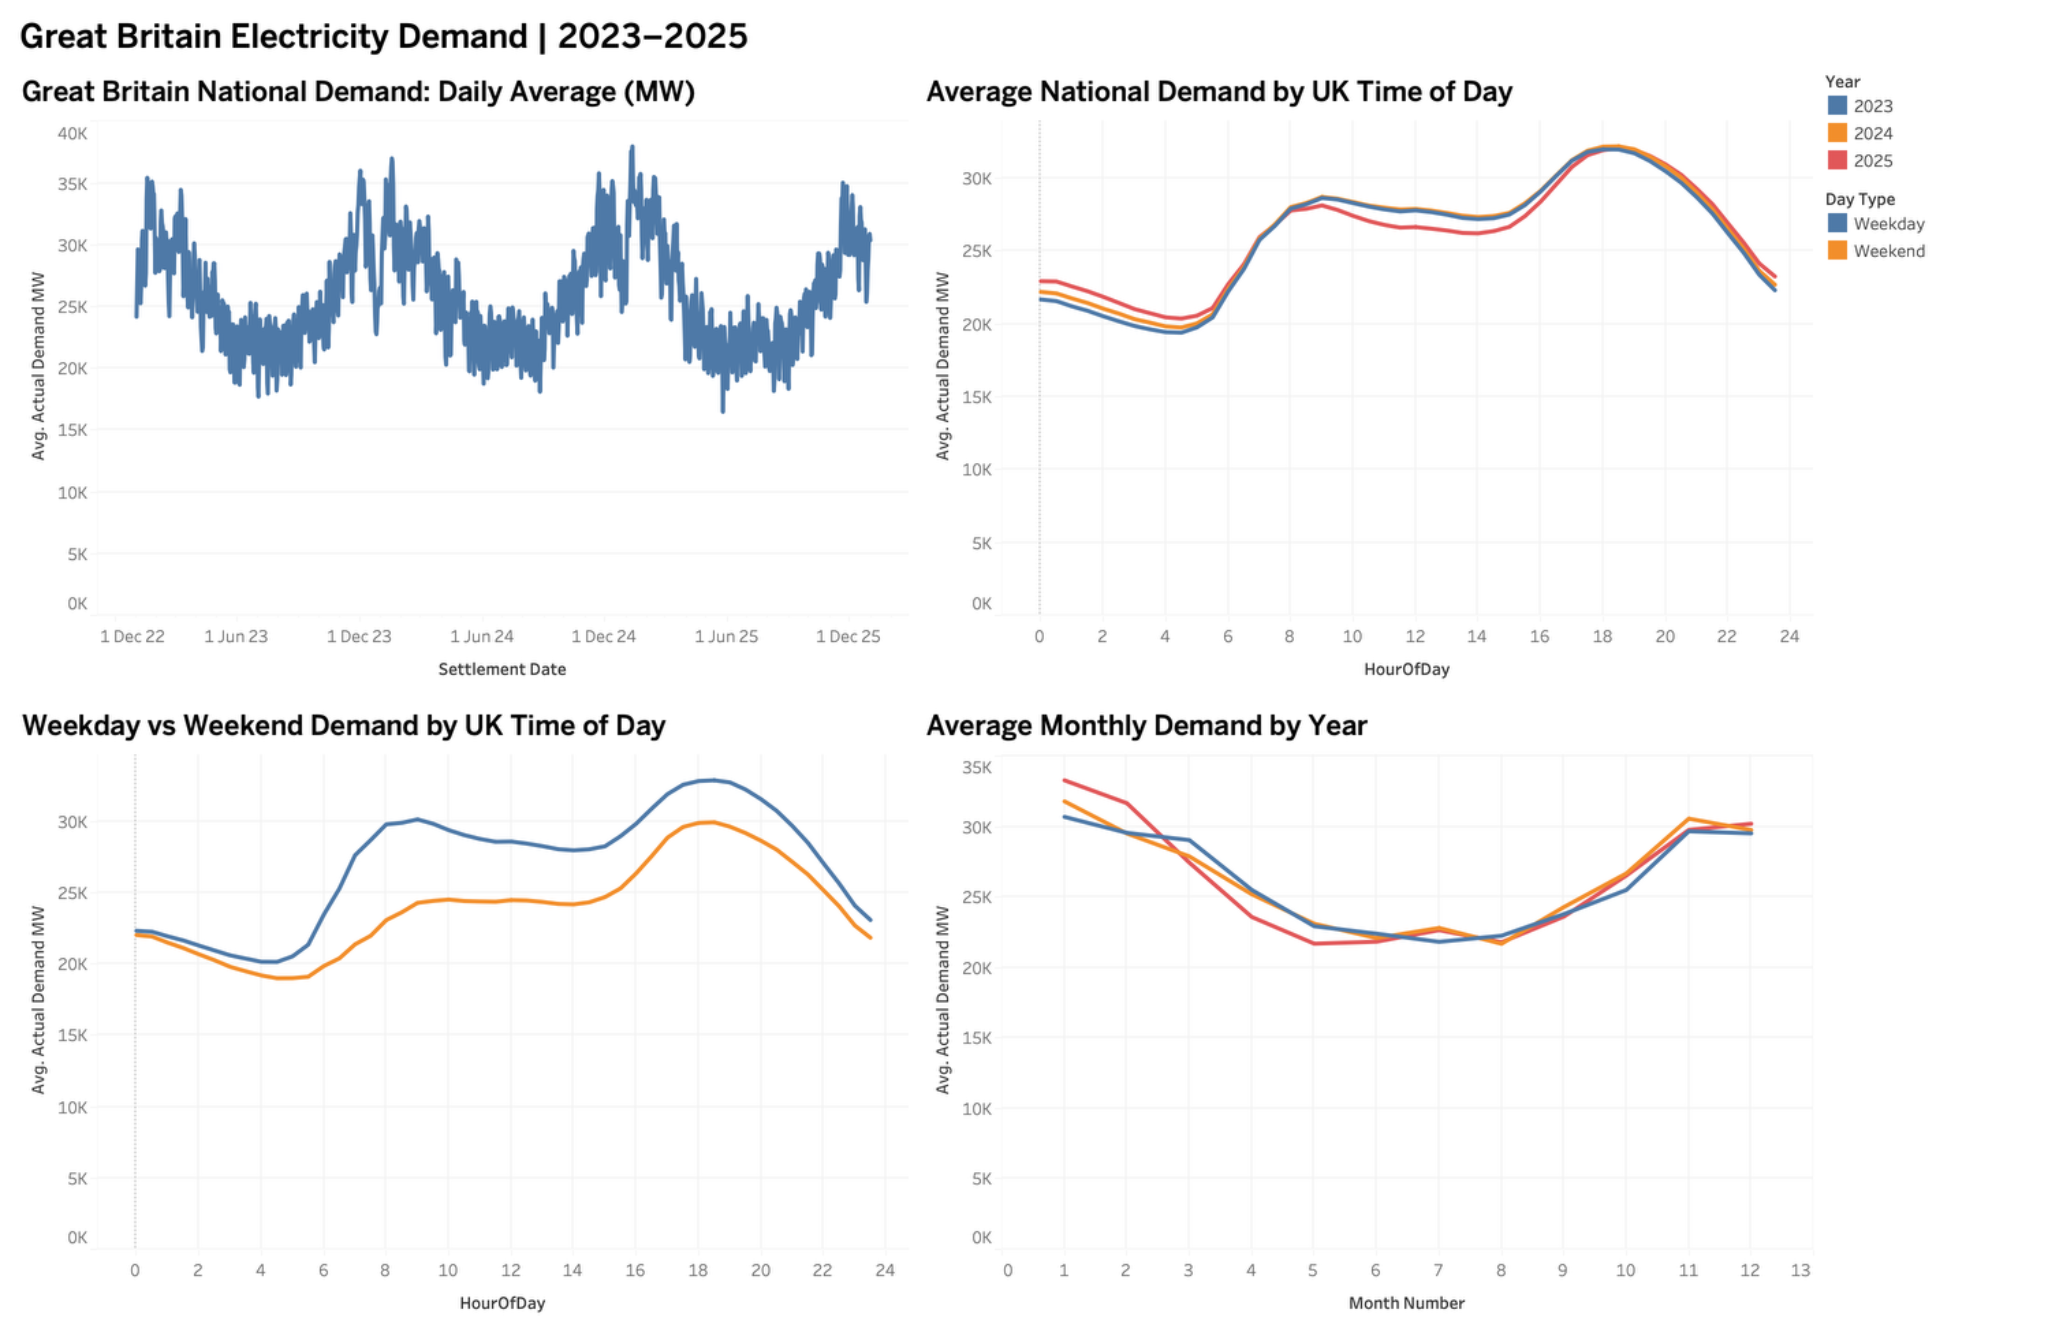

The page's visual inventory and layout, read from the dashboard file:
{"tool":"tableau","page":{"name":"Dashboard 1","canvas":[1000,1000],"units":"permille","ordinal":0},"visuals":[{"type":"title","box":[5.3,8.2,989.3,37.7]},{"type":"worksheet","title":"01_Demand_Over_Time","mark":"Line","rows":["ActualDemandMW"],"cols":["SettlementDate"],"box":[5.3,45.9,441.3,473]},{"type":"worksheet","title":"02_Intraday_Demand","mark":"Line","rows":["ActualDemandMW"],"cols":["HourOfDay"],"box":[446.6,45.9,441.3,473]},{"type":"legend","title":"02_Intraday_Demand","param":"[federated.105qbgy0u6fvoz1f01g780d50o2a].[none:Year:ok]","box":[887.9,45.9,106.7,87.7]},{"type":"legend","title":"03_Weekday_Weekend","param":"[federated.105qbgy0u6fvoz1f01g780d50o2a].[none:DayType:nk]","box":[887.9,133.5,106.7,67.3]},{"type":"worksheet","title":"03_Weekday_Weekend","mark":"Line","rows":["ActualDemandMW"],"cols":["HourOfDay"],"box":[5.3,518.9,441.3,473]},{"type":"worksheet","title":"04_Monthly_Demand","mark":"Line","rows":["ActualDemandMW"],"cols":["MonthNumber"],"box":[446.6,518.9,441.3,473]}]}

Visuals, with their boxes on the dashboard's canvas, which has no fixed pixel size, in thousandths of its width and height (x1, y1, x2, y2). These are canvas units, not pixel positions in the 2047x1340 screenshot, which may show the page scaled, cropped or inside an application window:
title: {"x1": 5, "y1": 8, "x2": 995, "y2": 46}
"01_Demand_Over_Time" worksheet (Line marks): {"x1": 5, "y1": 46, "x2": 447, "y2": 519}
"02_Intraday_Demand" worksheet (Line marks): {"x1": 447, "y1": 46, "x2": 888, "y2": 519}
"02_Intraday_Demand" legend: {"x1": 888, "y1": 46, "x2": 995, "y2": 134}
"03_Weekday_Weekend" legend: {"x1": 888, "y1": 134, "x2": 995, "y2": 201}
"03_Weekday_Weekend" worksheet (Line marks): {"x1": 5, "y1": 519, "x2": 447, "y2": 992}
"04_Monthly_Demand" worksheet (Line marks): {"x1": 447, "y1": 519, "x2": 888, "y2": 992}
